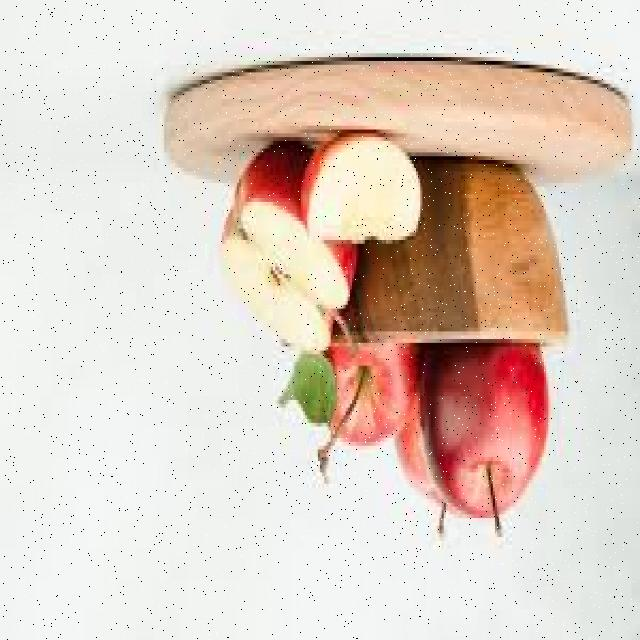Apple: (221, 148, 353, 354), (426, 344, 548, 521), (304, 134, 422, 242), (318, 342, 422, 458), (395, 409, 459, 510)
